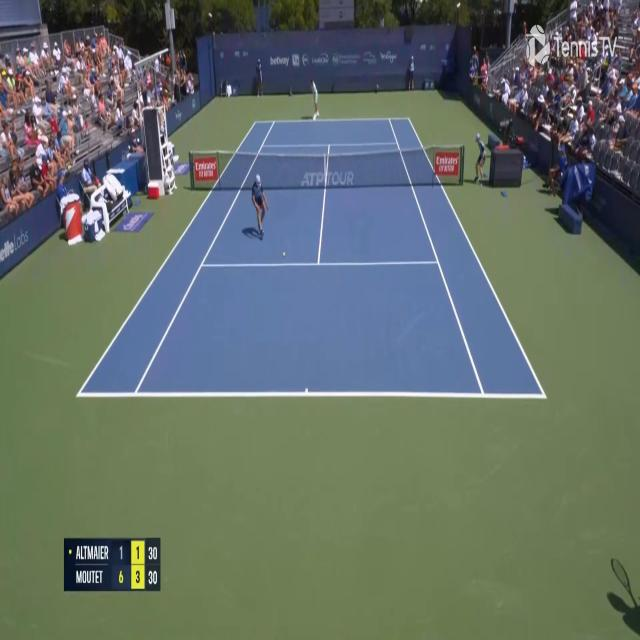tennis-player: (251, 171, 270, 239), (309, 75, 321, 124)
